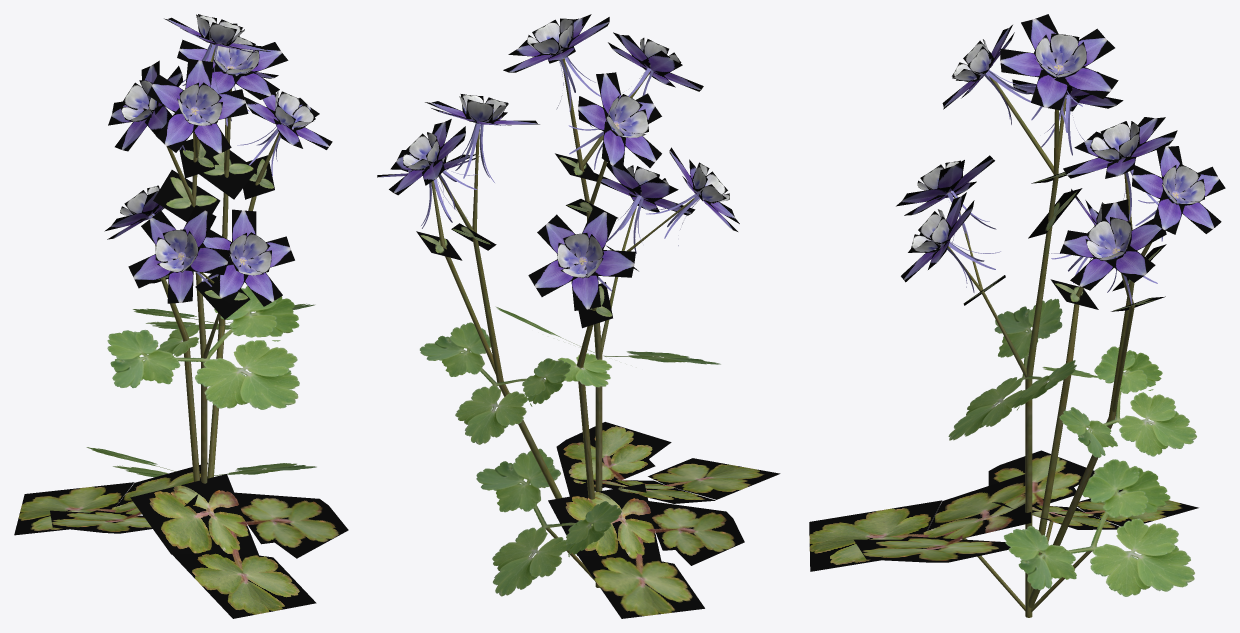
The model's file is columbine.gltf.
3 views of the same model, side by side, from view 1: azimuth 30°, elevation 25°; view 2: azimuth 150°, elevation 25°; view 3: azimuth 270°, elevation 25° (orthographic). The views are drawn at different scales.
Visible parts, largest first — view 1: root; view 2: root; view 3: root.
Boxes of the visible parts, <box> form: root: <box>14,14,348,618</box>; root: <box>377,14,780,618</box>; root: <box>809,14,1225,617</box>.
Bounding box in the file's own units: 0.3879 × 0.6552 × 0.417.
Materials: 8 (8 with a texture image).
